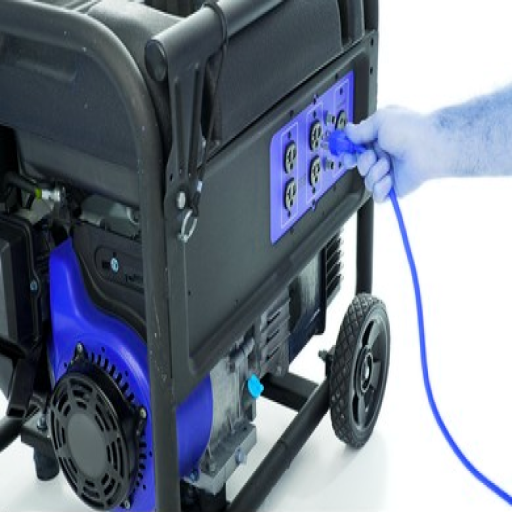portable_generator: (1, 1, 379, 509)
